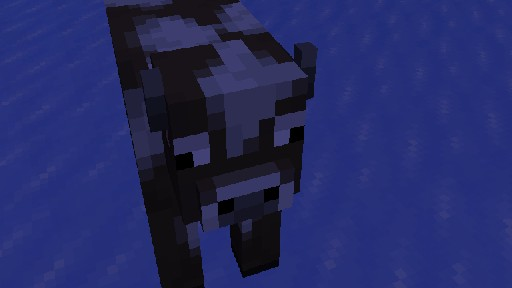cow: (103, 0, 317, 288)
